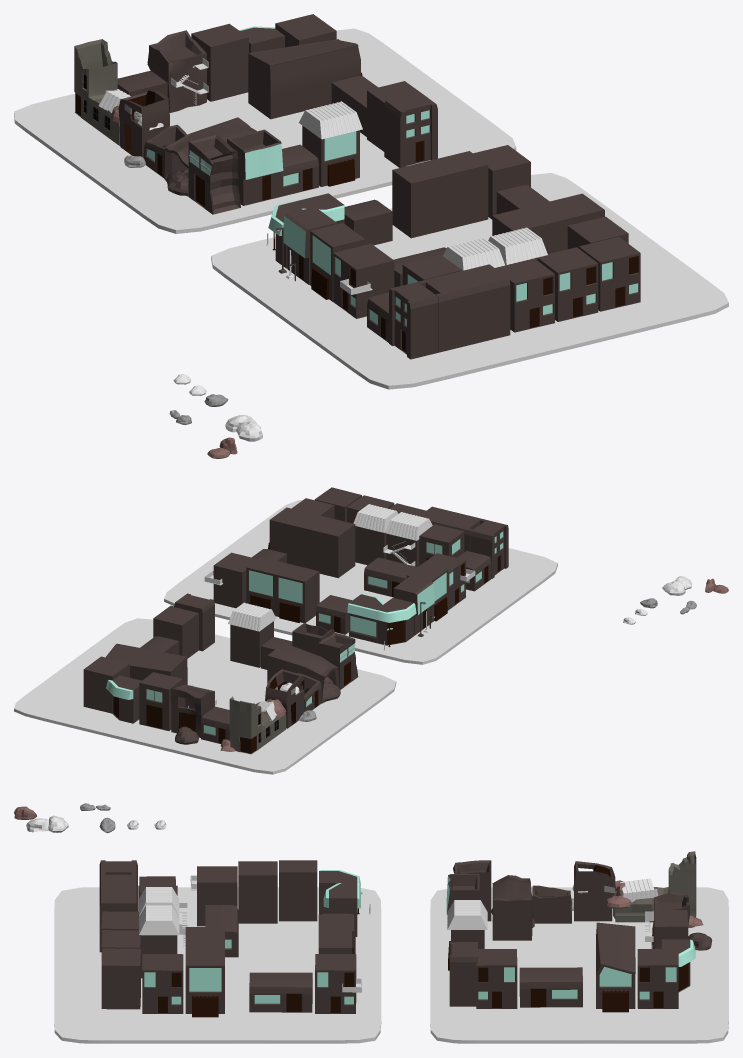
The model's file is city.fbx.
The picture shows the model from 3 angles, top to bottom: view 1: azimuth 30°, elevation 25°; view 2: azimuth 150°, elevation 25°; view 3: azimuth 270°, elevation 25°; orthographic projection. The views are drawn at different scales.
Visible parts, largest first — view 1: Box036, Box035, Box083, Box057, Box050, Box056, Box013, Box001, broken1, Box062, Box070, Box003 (+29 smaller); view 2: Box035, Box036, Box062, Box050, broken1, Box083, Box024, Box012, Box082, Box070, Box044, Box085 (+29 smaller); view 3: Box036, Box035, Box062, Box083, Box064, Box084, Box012, Box004, Box061, Box082, Box085, Box060 (+28 smaller).
Boxes of the visible parts, bbox=[...] form: Box036: bbox=[211, 173, 728, 389]; Box035: bbox=[14, 28, 516, 233]; Box083: bbox=[248, 39, 362, 119]; Box057: bbox=[418, 264, 510, 352]; Box050: bbox=[392, 160, 449, 238]; Box056: bbox=[384, 92, 437, 167]; Box013: bbox=[188, 134, 240, 214]; Box001: bbox=[389, 282, 438, 359]; broken1: bbox=[74, 39, 119, 145]; Box062: bbox=[492, 193, 604, 253]; Box070: bbox=[147, 30, 206, 112]; Box003: bbox=[333, 243, 394, 318]; Box035: bbox=[14, 618, 396, 774]; Box036: bbox=[164, 500, 557, 664]; Box062: bbox=[268, 507, 355, 578]; Box050: bbox=[275, 564, 319, 622]; broken1: bbox=[229, 696, 286, 754]; Box083: bbox=[105, 643, 187, 684]; Box024: bbox=[139, 672, 182, 730]; Box012: bbox=[267, 643, 339, 703]; Box082: bbox=[83, 656, 129, 713]; Box070: bbox=[170, 684, 214, 737]; Box044: bbox=[213, 552, 257, 608]; Box085: bbox=[153, 605, 198, 658]; Box036: bbox=[54, 887, 381, 1043]; Box035: bbox=[430, 887, 728, 1043]; Box062: bbox=[185, 927, 224, 1017]; Box083: bbox=[596, 922, 635, 1012]; Box064: bbox=[249, 972, 312, 1012]; Box084: bbox=[519, 967, 582, 1007]; Box012: bbox=[492, 875, 532, 940]; Box004: bbox=[238, 861, 277, 923]; Box061: bbox=[142, 954, 183, 1013]; Box082: bbox=[637, 949, 678, 1008]; Box085: bbox=[476, 949, 517, 1008]; Box060: bbox=[101, 948, 140, 1009].
Bounding box in the file's own units: 1375 × 1759 × 182.
10 materials, 1 textured.
